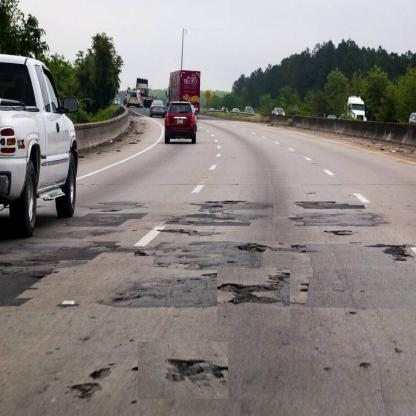damage: (137, 342, 228, 400), (216, 267, 290, 327), (61, 348, 120, 416)
